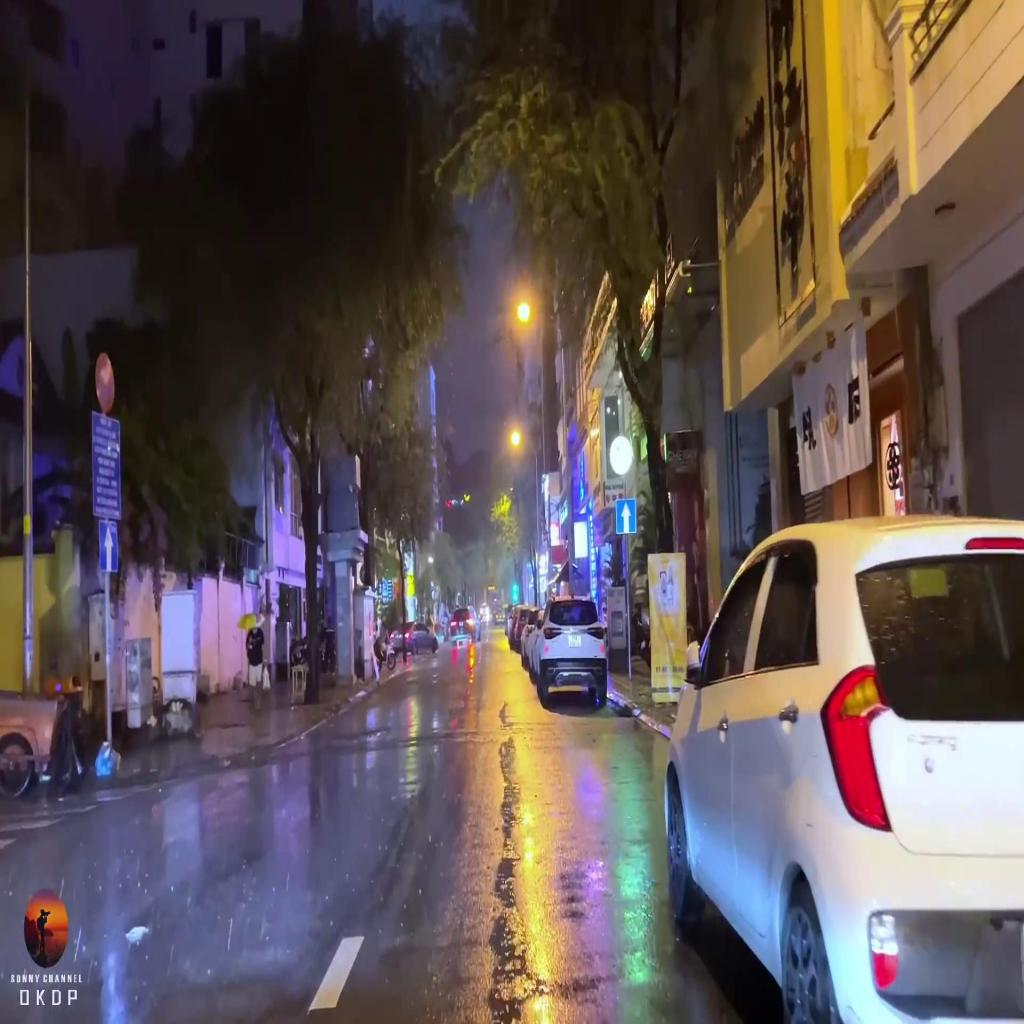cam_dung_xe_va_do_xe: (94, 351, 116, 411)
duong_mot_chieu: (99, 520, 117, 572), (615, 499, 636, 534)
